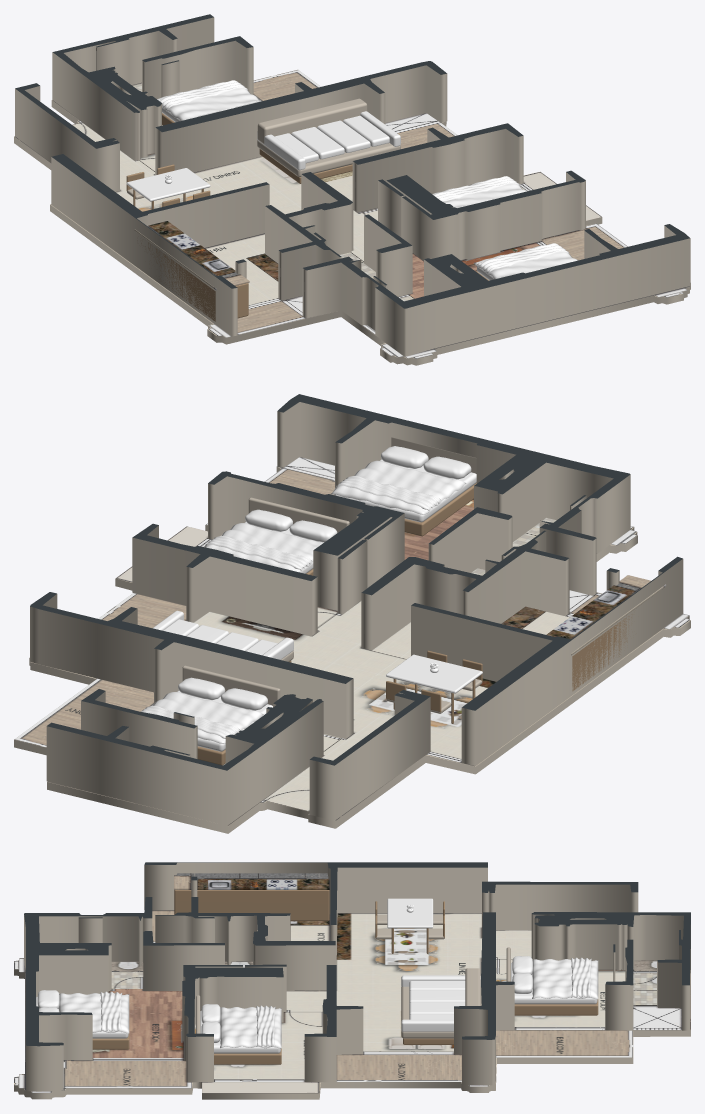
The picture shows the model from 3 angles, top to bottom: view 1: azimuth 30°, elevation 25°; view 2: azimuth 150°, elevation 25°; view 3: azimuth 270°, elevation 25°; orthographic projection. The views are drawn at different scales.
Visible parts, largest first — view 1: Partition walls, Apartment floor, Kitchen cabinets, Sofa back, Stone worktop, Marble dining top, Draped bed linen, Upholstered sofa frame, Draped bed linen.004, Draped bed linen.005, Seat cushion.001, Seat cushion.002 (+6 smaller); view 2: Partition walls, Apartment floor, Draped bed linen.004, Stone worktop, Draped bed linen.002, Draped bed linen, Marble dining top, Kitchen cabinets, Draped bed linen.005, Draped bed linen.003, Upholstered headboard, Upholstered headboard.001 (+10 smaller); view 3: Partition walls, Apartment floor, Kitchen cabinets, Stone worktop, Draped bed linen, Draped bed linen.002, Marble dining top, Draped bed linen.004, Walnut upholstered base, Draped bed linen.005, Walnut upholstered base.001, Draped bed linen.001 (+13 smaller).
Boxes of the visible parts, x1=… form: Partition walls: x1=15, y1=14, x2=690, y2=356; Apartment floor: x1=14, y1=69, x2=690, y2=365; Kitchen cabinets: x1=137, y1=240, x2=248, y2=321; Sofa back: x1=257, y1=98, x2=367, y2=143; Stone worktop: x1=134, y1=221, x2=249, y2=290; Marble dining top: x1=126, y1=168, x2=210, y2=201; Draped bed linen: x1=157, y1=81, x2=260, y2=120; Upholstered sofa frame: x1=257, y1=140, x2=400, y2=177; Draped bed linen.004: x1=474, y1=244, x2=577, y2=279; Draped bed linen.005: x1=477, y1=243, x2=569, y2=273; Seat cushion.001: x1=291, y1=127, x2=344, y2=159; Seat cushion.002: x1=317, y1=120, x2=370, y2=152; Partition walls: x1=30, y1=394, x2=683, y2=825; Apartment floor: x1=14, y1=457, x2=690, y2=833; Draped bed linen.004: x1=331, y1=460, x2=466, y2=514; Stone worktop: x1=546, y1=575, x2=666, y2=655; Draped bed linen.002: x1=205, y1=523, x2=323, y2=572; Draped bed linen: x1=153, y1=692, x2=263, y2=743; Marble dining top: x1=386, y1=654, x2=482, y2=693; Kitchen cabinets: x1=572, y1=614, x2=632, y2=691; Draped bed linen.005: x1=335, y1=476, x2=441, y2=510; Draped bed linen.003: x1=204, y1=536, x2=311, y2=570; Upholstered headboard: x1=182, y1=665, x2=280, y2=705; Upholstered headboard.001: x1=248, y1=497, x2=349, y2=532; Partition walls: x1=24, y1=862, x2=690, y2=1091; Apartment floor: x1=14, y1=910, x2=690, y2=1099; Kitchen cabinets: x1=174, y1=890, x2=329, y2=921; Stone worktop: x1=174, y1=873, x2=329, y2=889; Draped bed linen: x1=532, y1=959, x2=598, y2=999; Draped bed linen.002: x1=220, y1=1007, x2=281, y2=1048; Marble dining top: x1=387, y1=898, x2=433, y2=928; Draped bed linen.004: x1=59, y1=993, x2=129, y2=1033; Walnut upholstered base: x1=514, y1=999, x2=598, y2=1015; Draped bed linen.005: x1=100, y1=991, x2=122, y2=1032; Walnut upholstered base.001: x1=214, y1=1048, x2=281, y2=1064; Draped bed linen.001: x1=571, y1=957, x2=591, y2=997.
Bounding box in the file's own units: 10.27 × 1.3 × 15.41.
9 materials, 1 textured.
